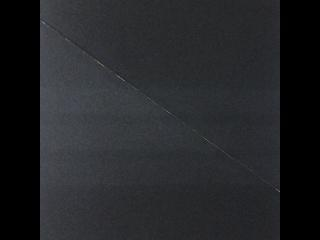crack: (39, 14, 282, 199)
